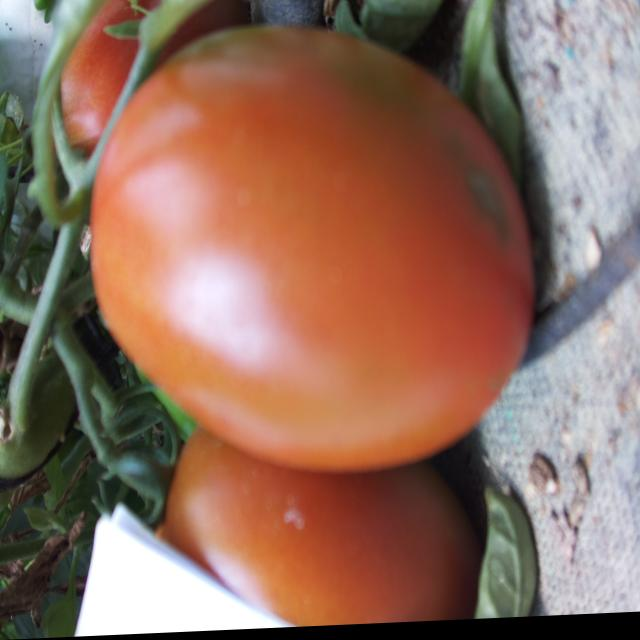kirmizi: (24, 23, 552, 521)
